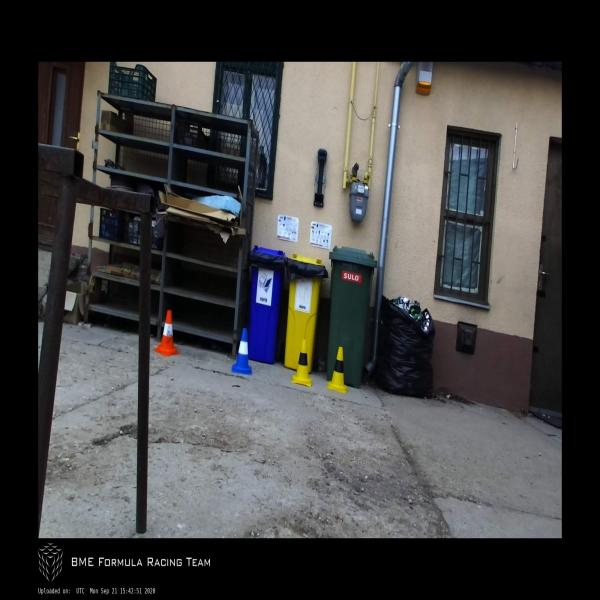blue_cone: (232, 328, 252, 375)
orange_cone: (154, 311, 180, 356)
yellow_cone: (292, 340, 312, 386), (327, 346, 347, 392)
